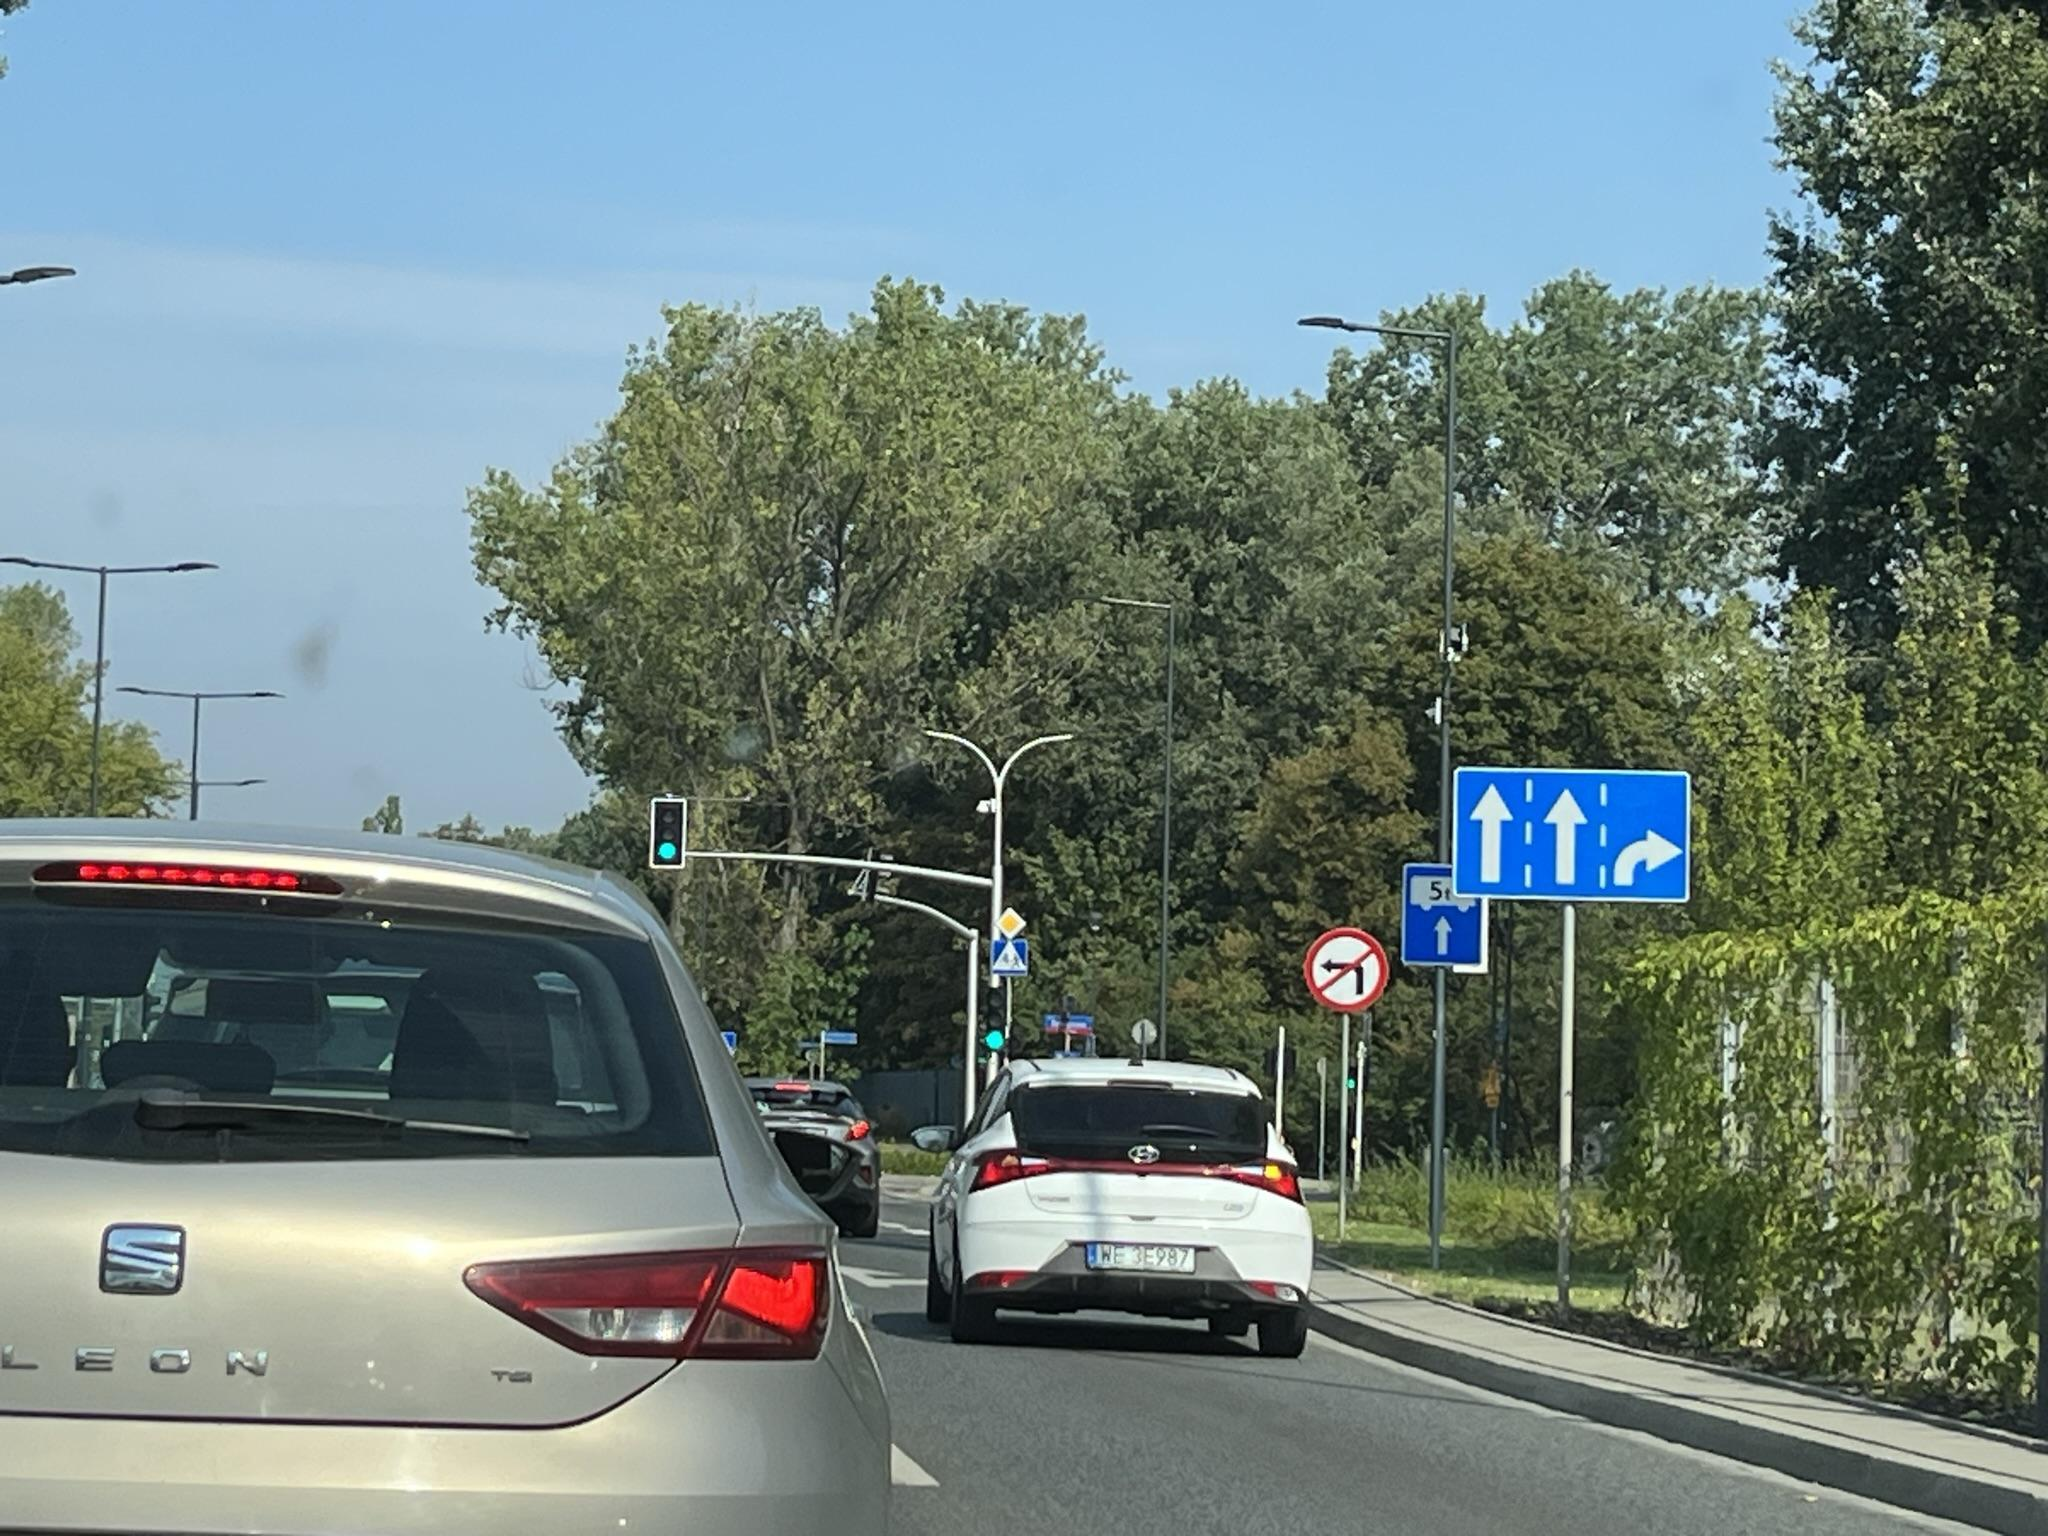information: (1405, 866, 1482, 963), (992, 941, 1027, 975), (993, 908, 1029, 941)
other: (1455, 765, 1690, 900)
prohibitory: (1306, 926, 1390, 1015)
